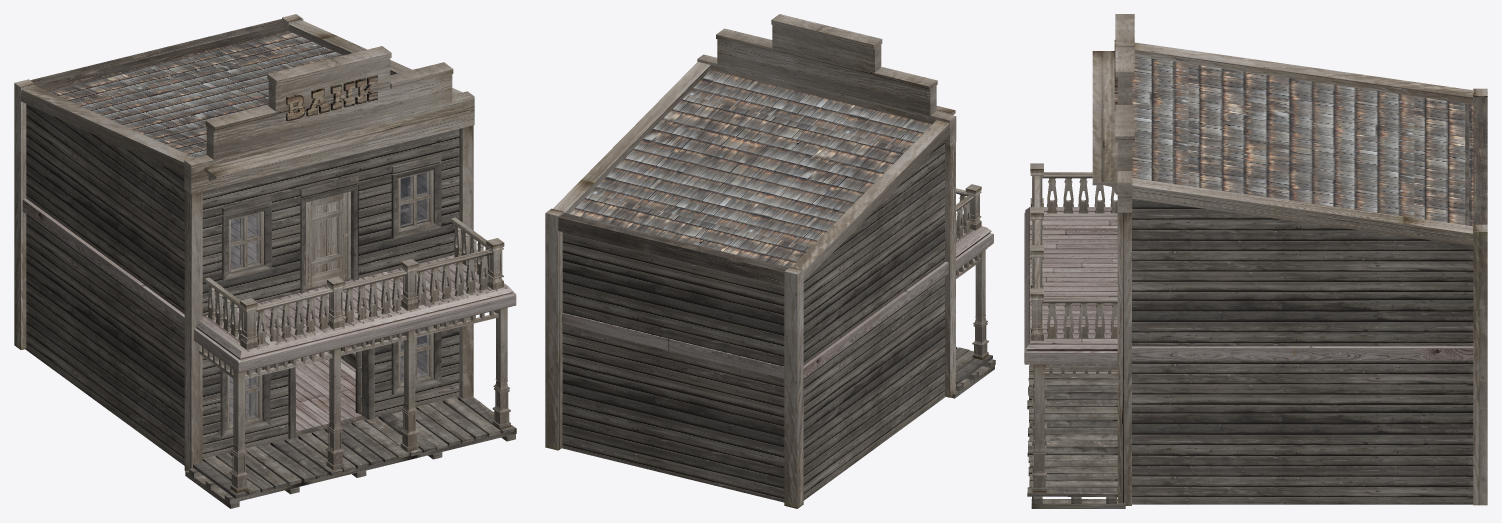
File: desert_western_bank.glb
The picture shows the model from 3 angles, left to right: view 1: azimuth 30°, elevation 25°; view 2: azimuth 150°, elevation 25°; view 3: azimuth 270°, elevation 25°; orthographic projection. The views are drawn at different scales.
Visible parts, largest first — view 1: interior_exterior_0, board_signpost_25, balcony_32, parapet.002_44, gasket_24, loft_45, door_2_59, gasket.002_29, gasket.004_31, floor_34, gasket.003_27, gasket.001_26 (+36 smaller); view 2: interior_exterior_0, board_signpost_25, floor_34, gasket.003_27, gasket.004_31, gasket.006_28, gasket.002_29, gasket.005_30, gasket_24, pillar_33, balcony_32, parapet_42 (+1 smaller); view 3: interior_exterior_0, balcony_32, gasket.005_30, floor_34, gasket.002_29, gasket.001_26, gasket.006_28, board_signpost_25, loft_45, parapet.001_43, gasket.004_31, parapet_42 (+21 smaller).
Part boxes in pixels (x1,y1,x2,y2): interior_exterior_0: (25,31,459,465); board_signpost_25: (184,46,474,193); balcony_32: (194,255,516,372); parapet.002_44: (256,249,492,344); gasket_24: (184,189,202,470); loft_45: (204,105,473,180); door_2_59: (306,191,350,288); gasket.002_29: (21,86,194,175); gasket.004_31: (30,19,288,90); floor_34: (22,198,256,329); gasket.003_27: (14,79,35,349); gasket.001_26: (459,125,473,398); interior_exterior_0: (562,70,945,502); board_signpost_25: (697,14,956,146); floor_34: (562,261,948,378); gasket.003_27: (784,267,803,508); gasket.004_31: (558,213,788,285); gasket.006_28: (545,208,564,450); gasket.002_29: (792,120,949,281); gasket.005_30: (553,62,710,213); gasket_24: (945,142,955,397); pillar_33: (972,248,988,360); balcony_32: (956,220,993,270); parapet_42: (956,195,973,240); interior_exterior_0: (1132,56,1473,504); balcony_32: (1024,207,1117,364); gasket.005_30: (1132,178,1473,246); floor_34: (1132,346,1473,360); gasket.002_29: (1134,42,1473,104); gasket.001_26: (1117,212,1131,505); gasket.006_28: (1473,224,1487,505); board_signpost_25: (1115,14,1134,212); loft_45: (1092,51,1117,194); parapet.001_43: (1042,297,1117,338); gasket.004_31: (1473,97,1487,224); parapet_42: (1042,172,1117,213).
Size of the model in its own units: 7.22 by 9.07 by 9.68.
9 materials, 8 textured.
